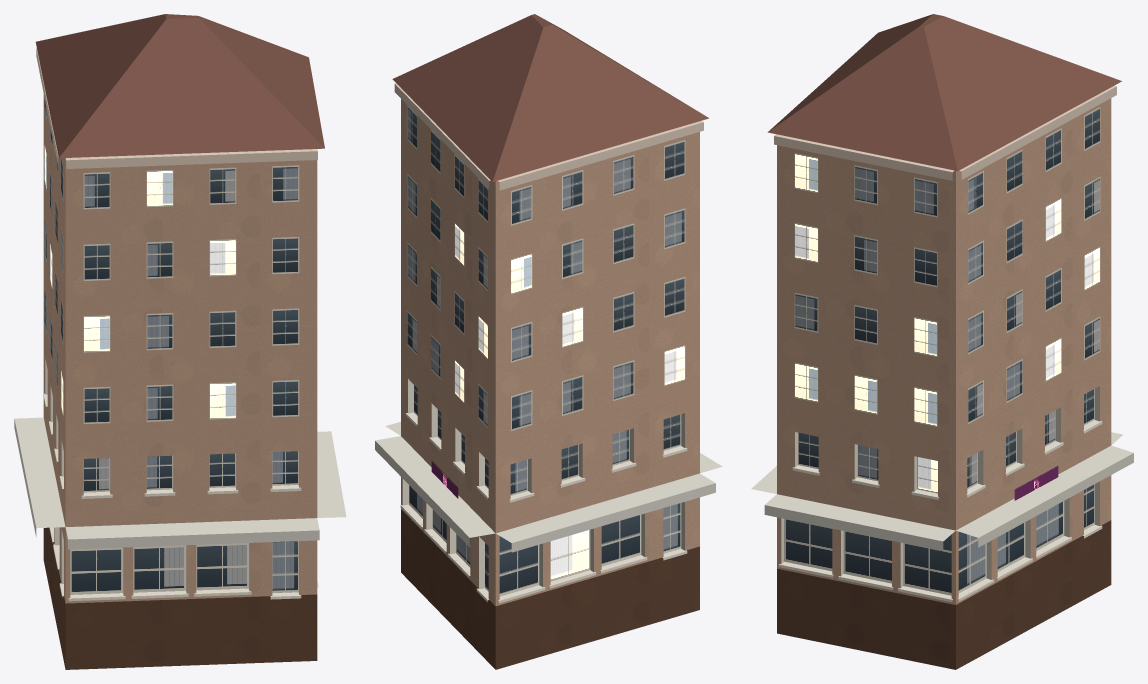
The model's file is langC_peeeng.glb.
3 renders of one model, left to right at view 1: azimuth 30°, elevation 25°; view 2: azimuth 150°, elevation 25°; view 3: azimuth 270°, elevation 25°, orthographic. The views are drawn at different scales.
Visible parts, largest first — view 1: langC_peeeng; view 2: langC_peeeng; view 3: langC_peeeng.
Boxes of the visible parts, box(x1,y1,x2,y2) form: langC_peeeng: box(14, 14, 346, 669); langC_peeeng: box(375, 14, 722, 669); langC_peeeng: box(751, 14, 1133, 669).
Bounding box in the file's own units: 15.14 × 27.11 × 16.06.
3 materials, 3 textured.
